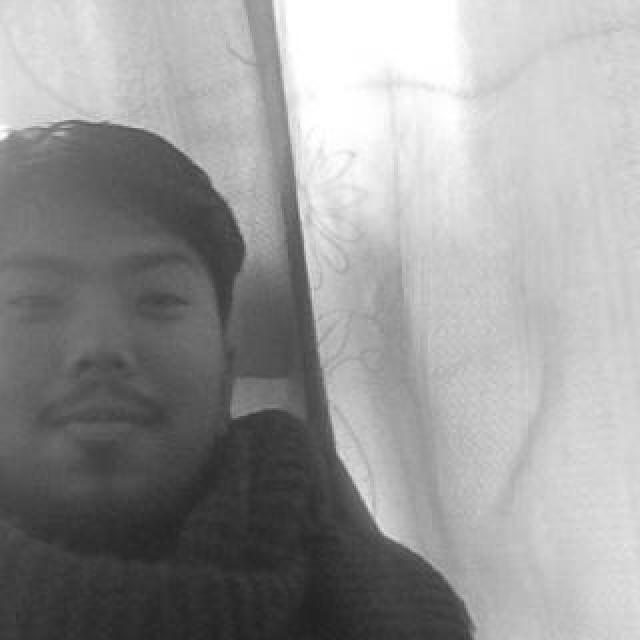Focused: (0, 202, 228, 538)
